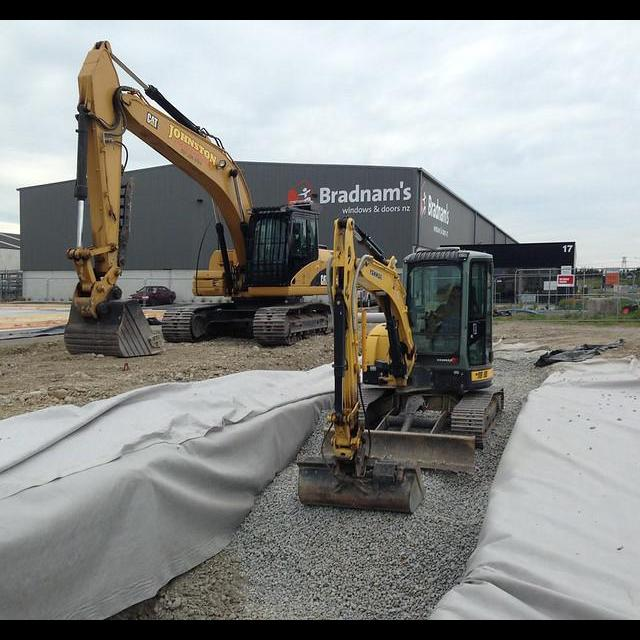Excavator: (66, 39, 338, 358), (294, 218, 506, 515)
Person: (432, 284, 463, 333)
sedan: (128, 284, 175, 306)
